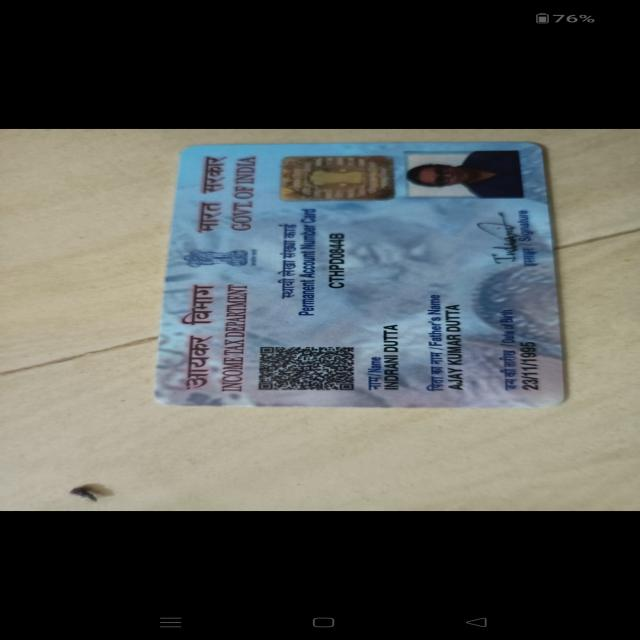pan_card: (166, 144, 569, 408)
